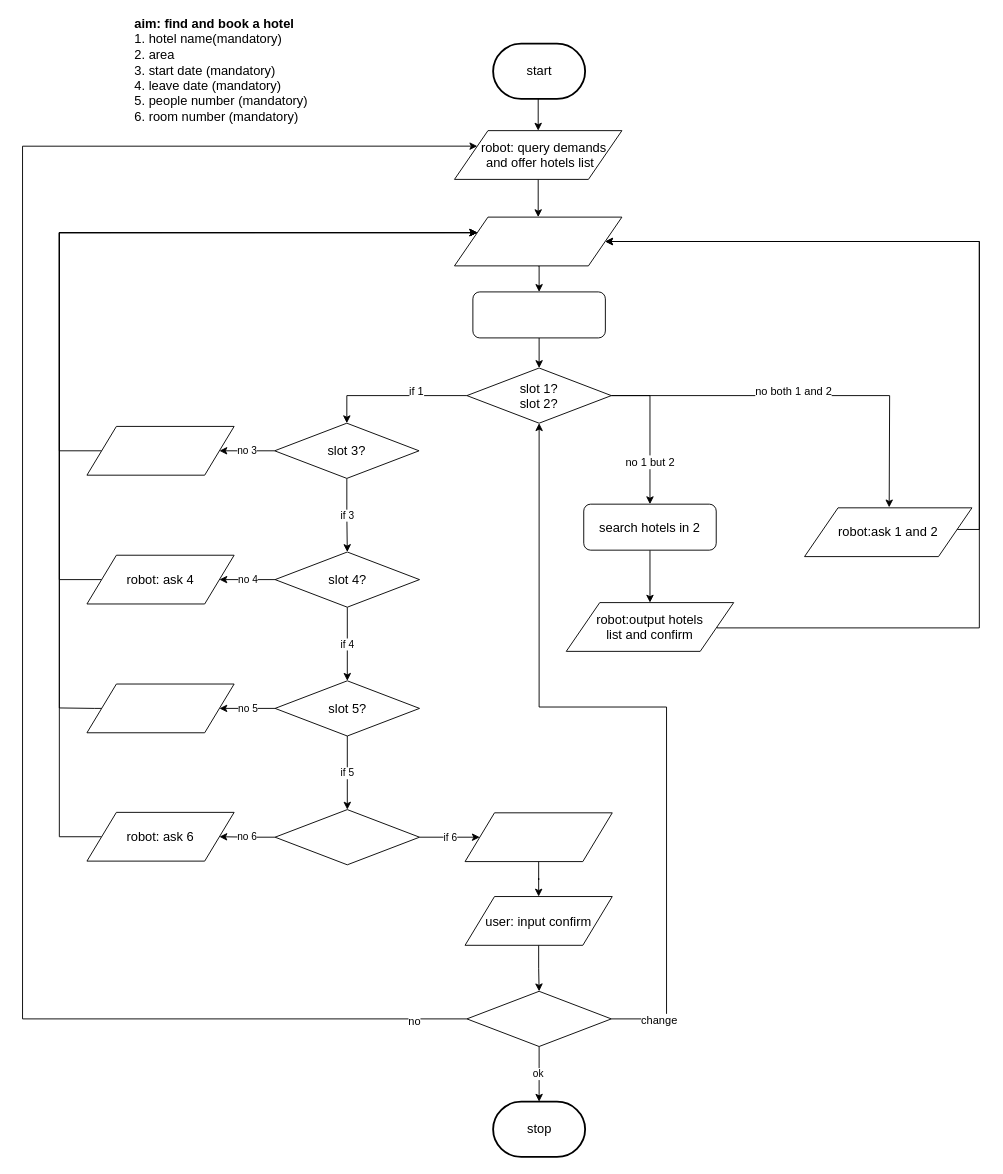
This 1003x1174 diagram has some shape labels left out. Here are the shapes that lost their labels. From the top down, the centre of each, then its label:
At (x=538, y=241): "user: input demands".
At (x=538, y=314): "extract values and fill slots".
At (x=160, y=450): "robot: ask 3".
At (x=160, y=708): "robot: ask 5".
At (x=347, y=837): "slot 6?".
At (x=538, y=837): "robot: repeat and confim".
At (x=538, y=1018): "ok?".
